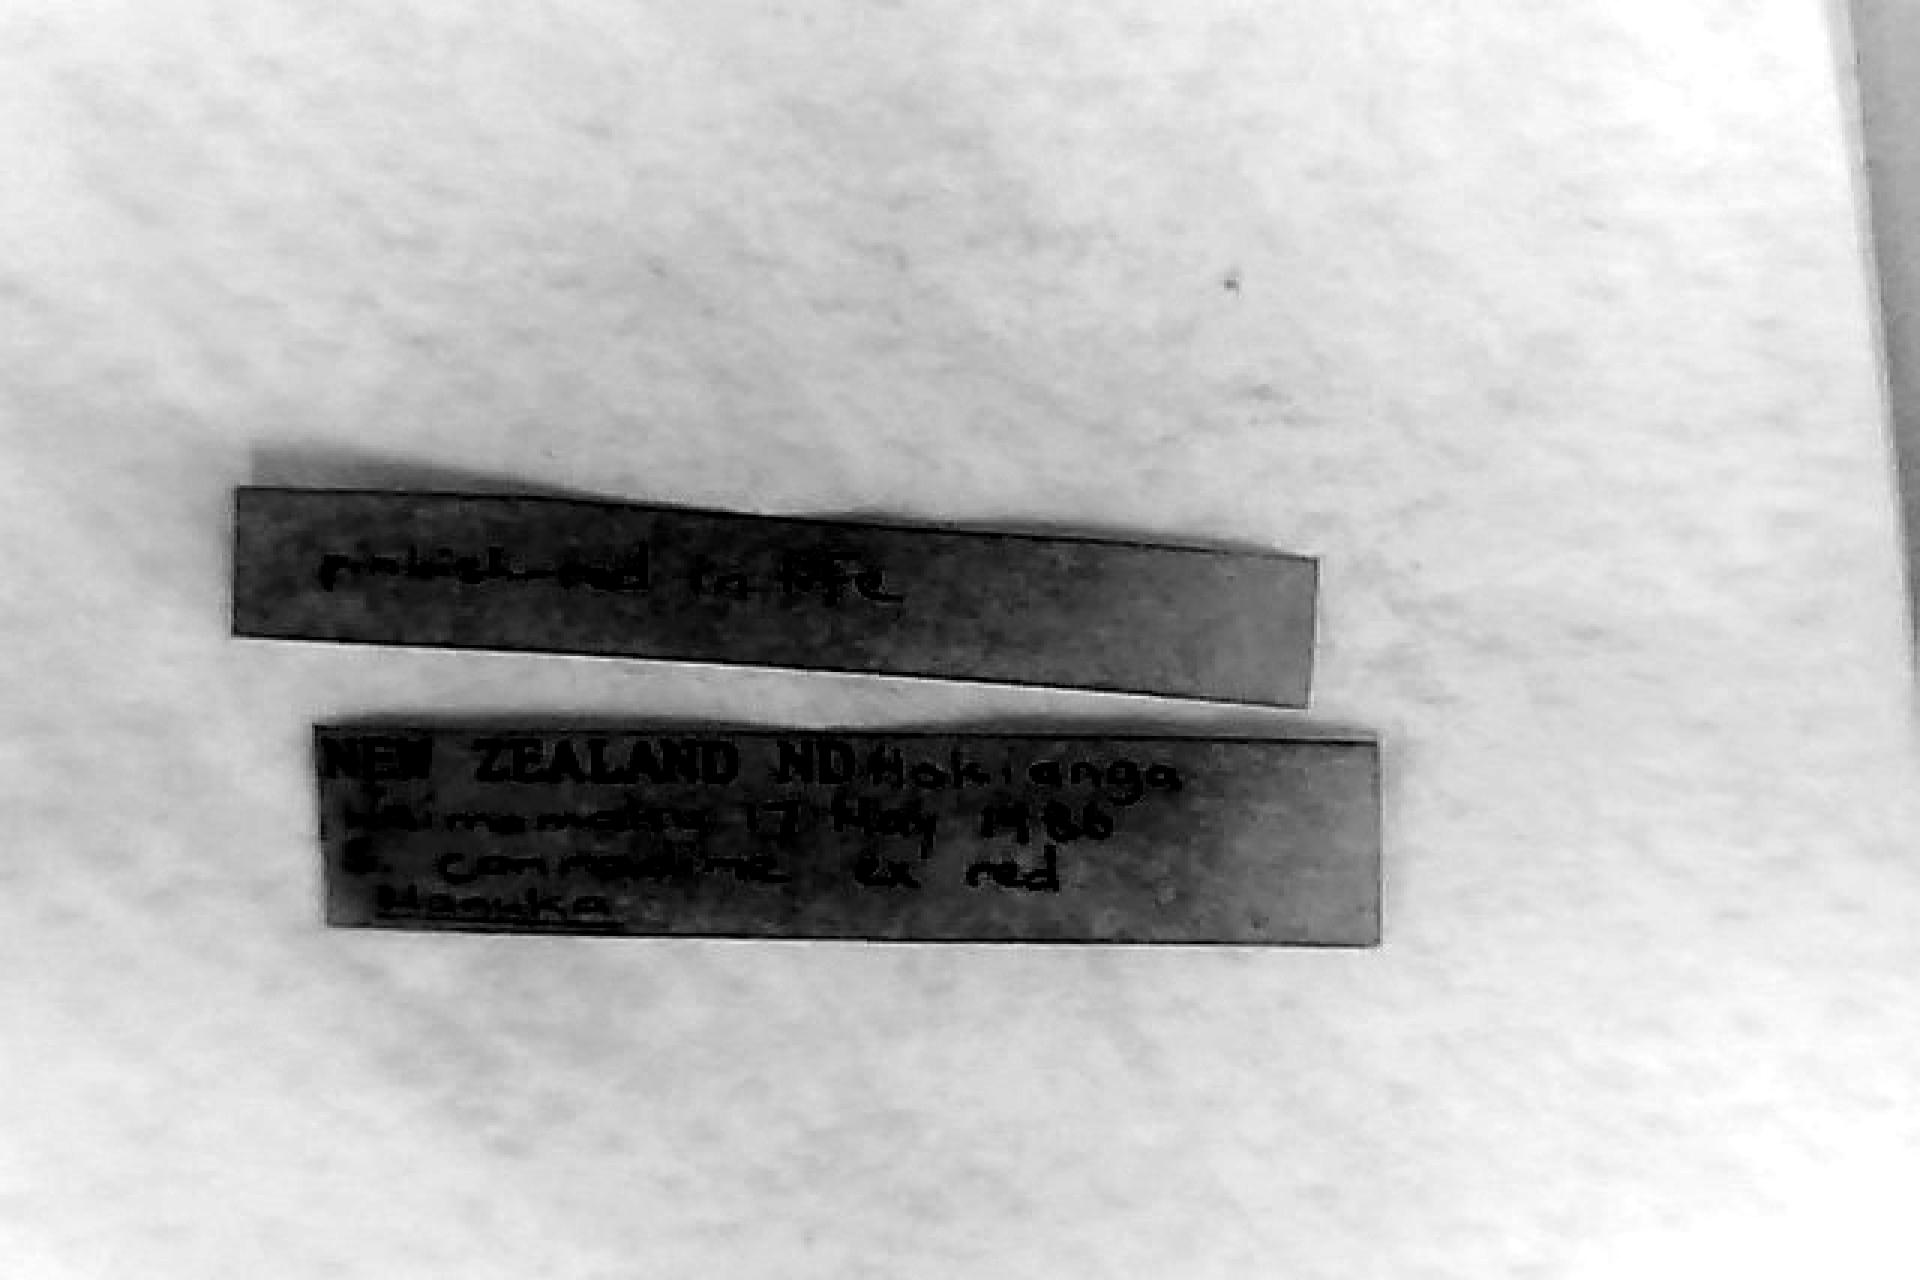hand_label: (233, 491, 1316, 706)
mixed_label: (314, 729, 1380, 946)
